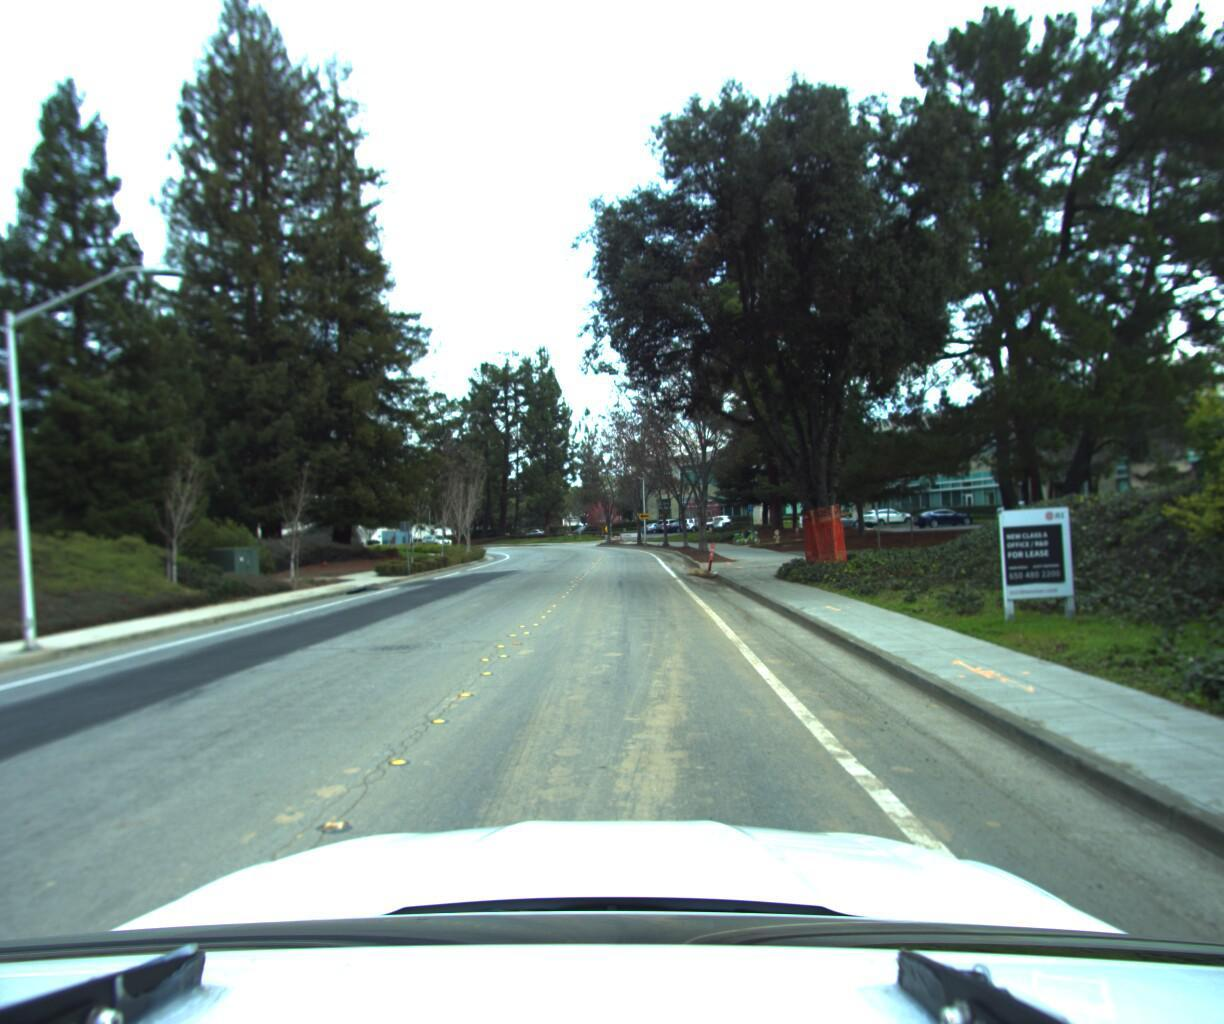bicycle: (732, 522, 764, 543)
